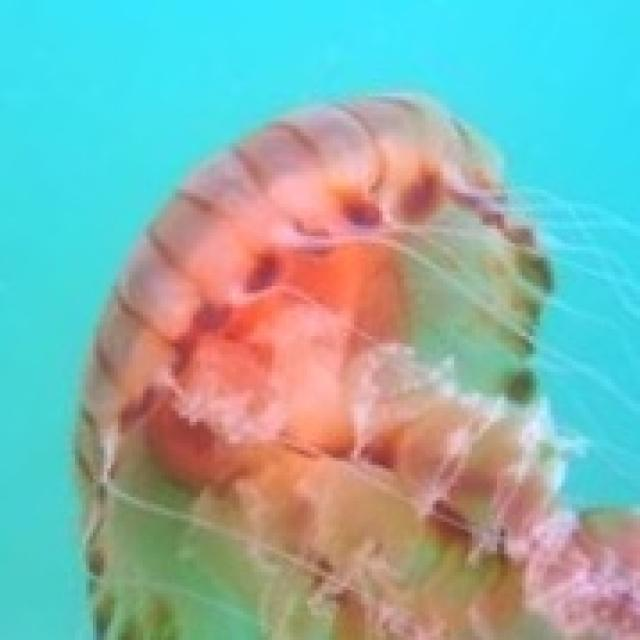Box-jellyfish: (68, 86, 636, 636)
